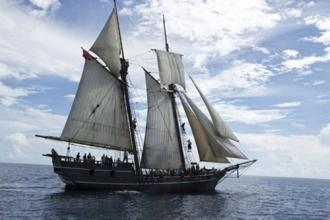fanchuan: (48, 6, 248, 189)
